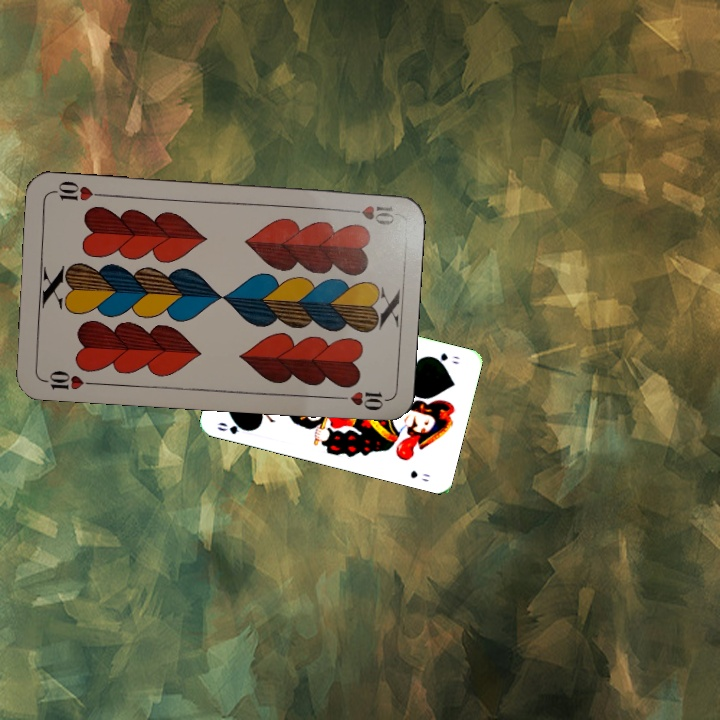GO: (213, 417, 254, 437), (425, 349, 462, 367)
H10: (39, 366, 98, 393), (340, 202, 397, 227)
